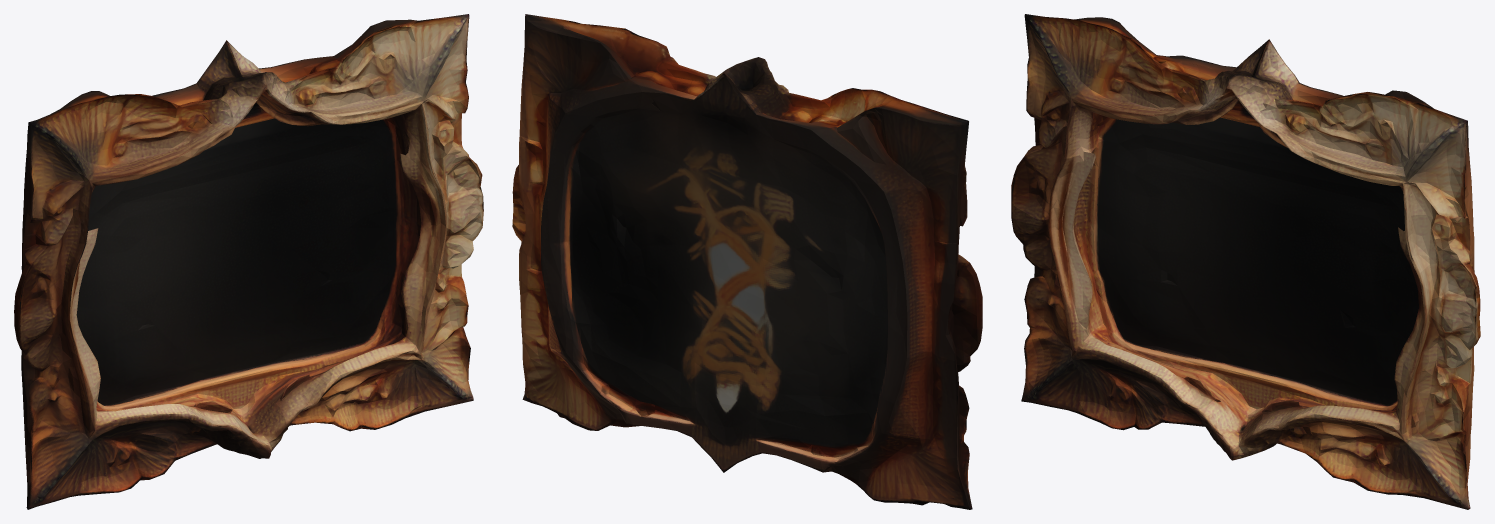
The model's file is banana-fiber-mirror-frame-3d.jpeg.glb.
The picture shows the model from 3 angles, left to right: view 1: azimuth 30°, elevation 25°; view 2: azimuth 150°, elevation 25°; view 3: azimuth 330°, elevation 25°; orthographic projection.
Visible parts, largest first — view 1: world; view 2: world; view 3: world.
Part boxes in pixels (box(x1,y1,x2,y2)): world: box(14, 14, 483, 509); world: box(512, 14, 982, 509); world: box(1011, 14, 1480, 509).
Bounding box in the file's own units: 1 × 0.8287 × 0.1567.
1 material, 1 textured.
